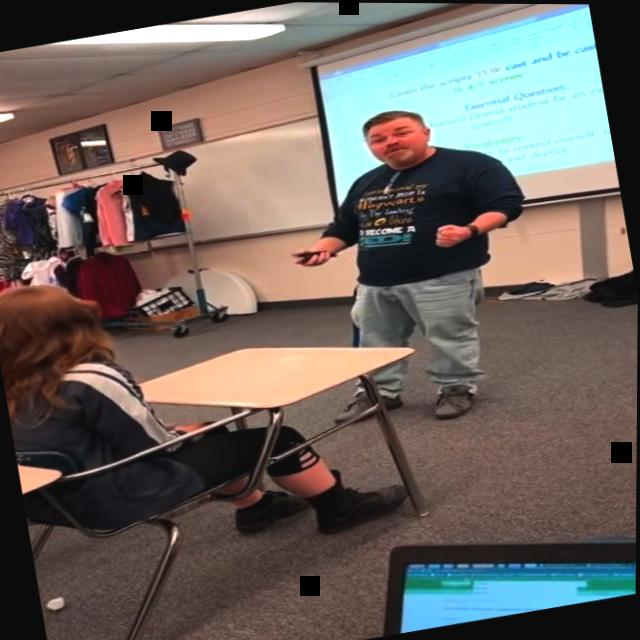NO-Mask: (363, 109, 437, 174)
